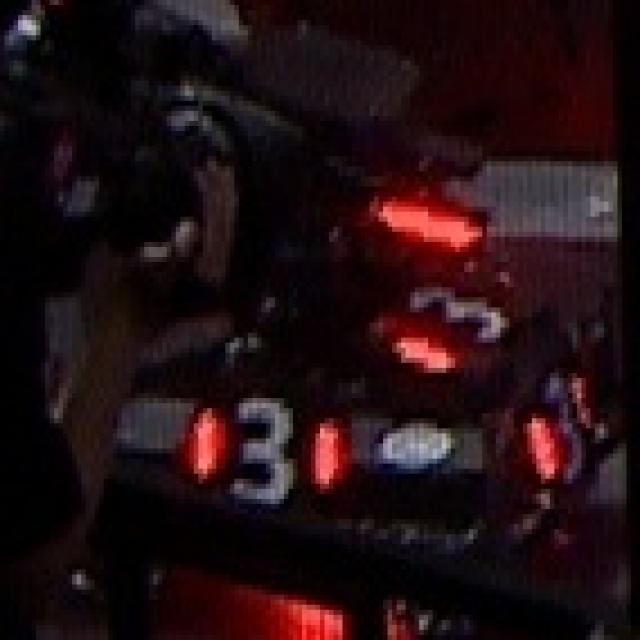R3: (372, 237, 529, 383), (164, 391, 350, 512), (502, 351, 610, 486)
